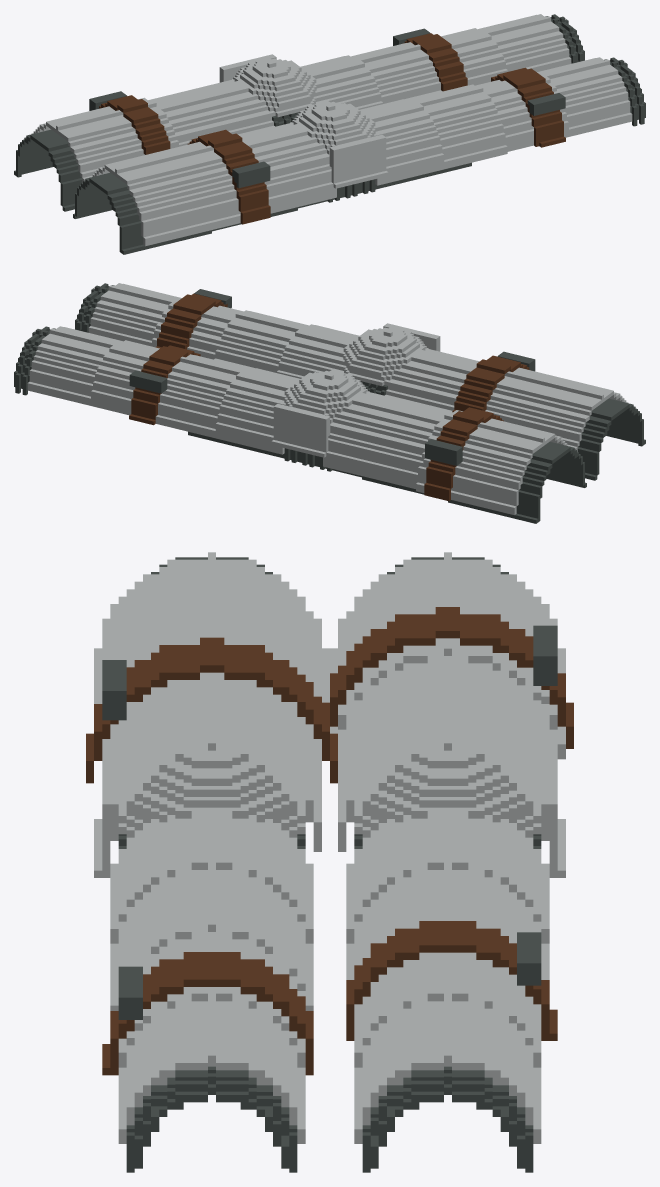
Rendered from arm_guard_steel.glb.
3 views of the same model, one above another, from view 1: azimuth 30°, elevation 25°; view 2: azimuth 150°, elevation 25°; view 3: azimuth 270°, elevation 25° (orthographic). The views are drawn at different scales.
Parts seen in each view (by area): view 1: arm_guard_steel:compound; view 2: arm_guard_steel:compound; view 3: arm_guard_steel:compound.
Boxes of the visible parts, <box> form: arm_guard_steel:compound: <box>14,14,645,254</box>; arm_guard_steel:compound: <box>14,283,645,523</box>; arm_guard_steel:compound: <box>86,552,573,1172</box>.
Bounding box in the file's own units: 0.6 × 0.08 × 0.24.
